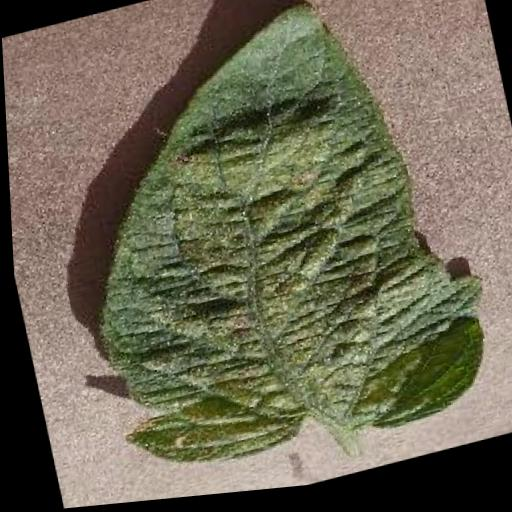Spider Mites: (43, 0, 506, 500)
